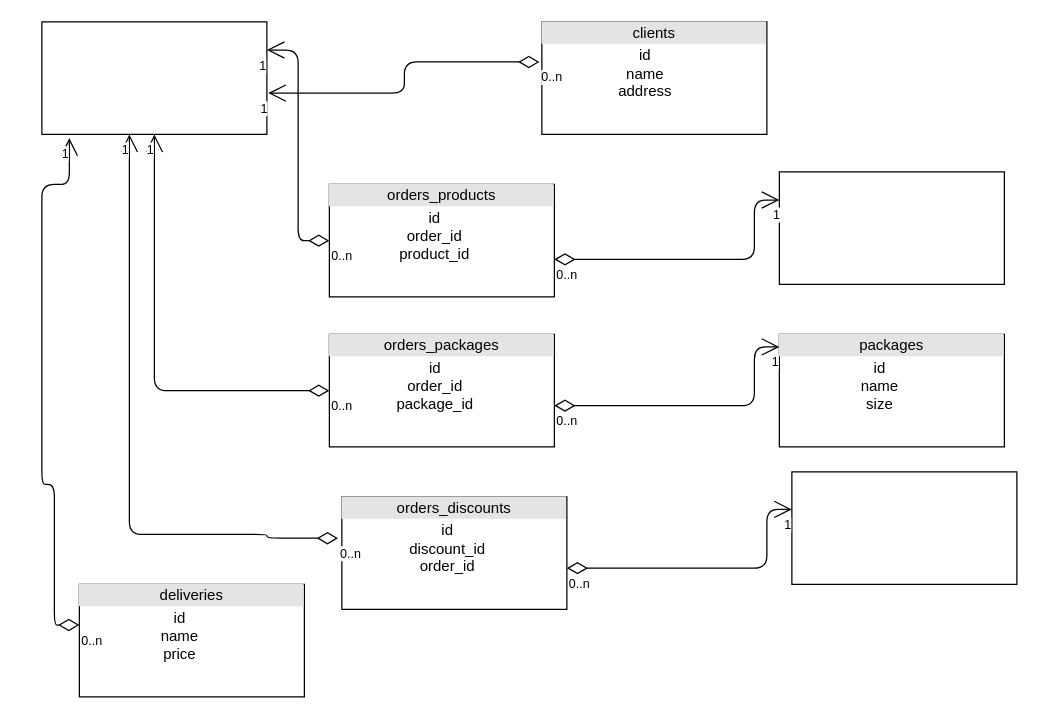
Some shapes in this 1039 by 719 pixel diagram are drawn without their labels. Each missing label, with the centre of its shape:
"discounts id name type value" goes at pixel 904 527.
"orders id type client_id delivery_id" goes at pixel 154 77.
"products id name size price" goes at pixel 891 227.
